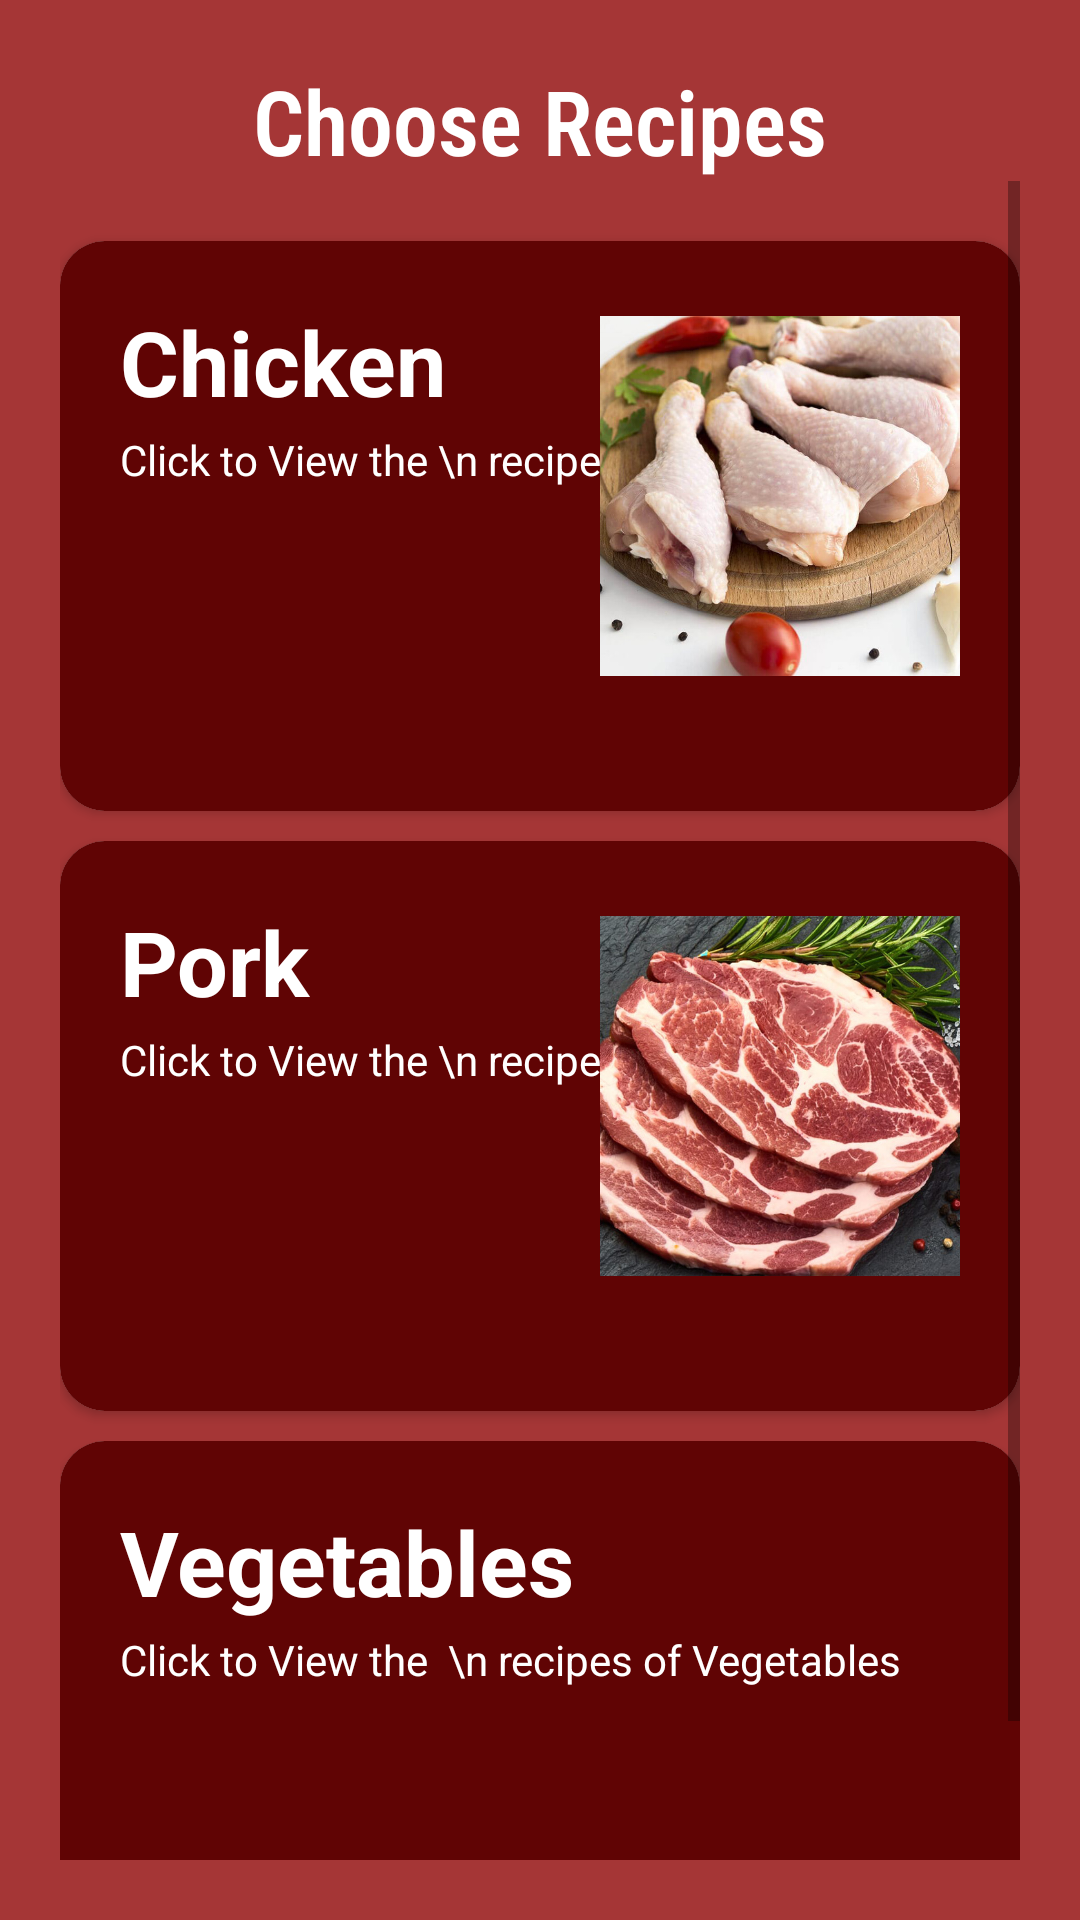

Icons on this 1080x1920 Android screen, each with the point to tap as (x,y):
chicken: (780,496)
